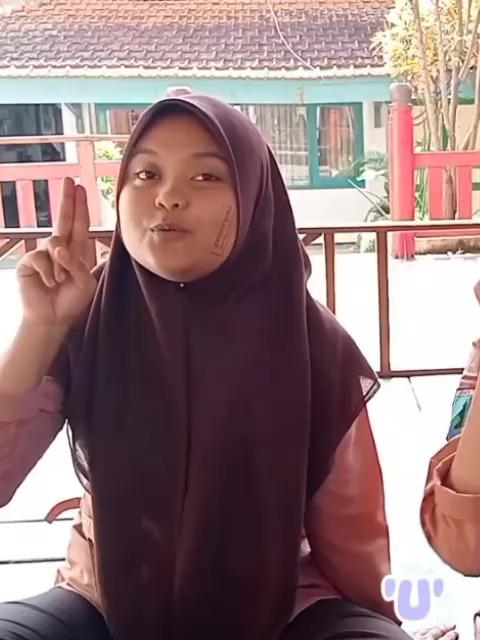U: (18, 173, 102, 325)
